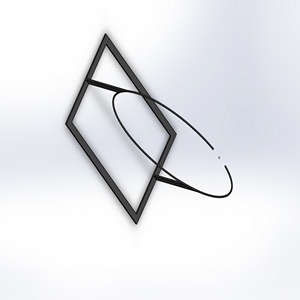circle: (63, 31, 235, 225)
